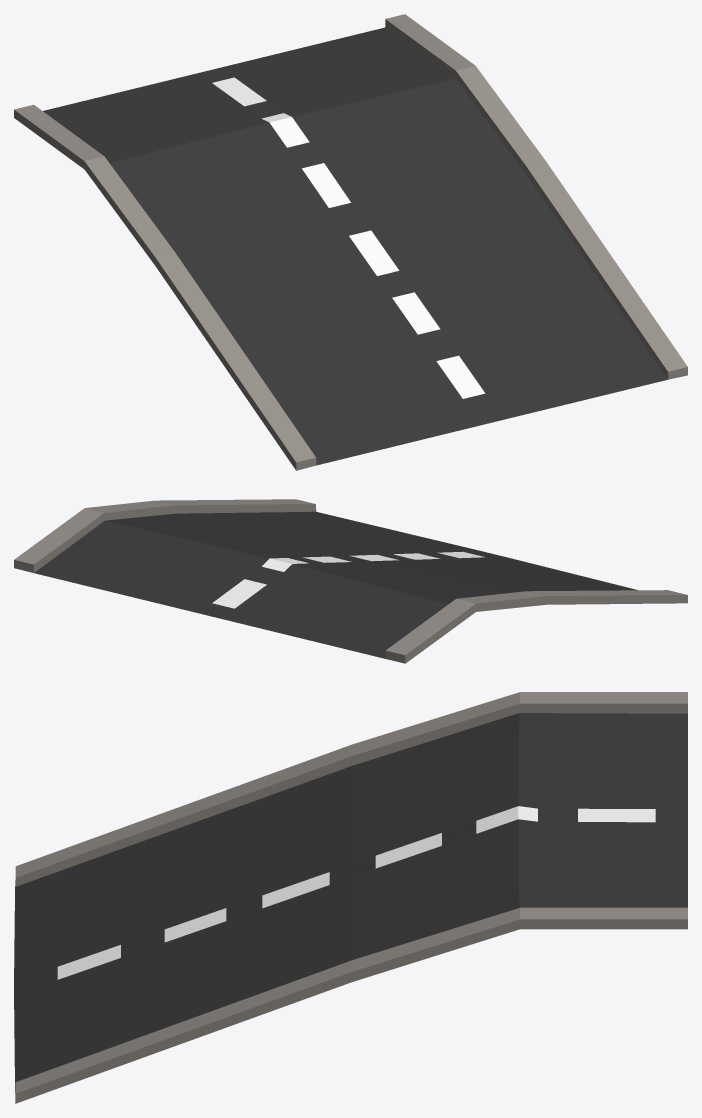
File: Road Tile_6.fbx
3 views of the same model, one above another, from view 1: azimuth 30°, elevation 25°; view 2: azimuth 150°, elevation 25°; view 3: azimuth 270°, elevation 25° (orthographic). The views are drawn at different scales.
Parts seen in each view (by area): view 1: Road Tile_6; view 2: Road Tile_6; view 3: Road Tile_6.
Boxes of the visible parts, <box> form: Road Tile_6: <box>14,14,687,470</box>; Road Tile_6: <box>14,499,687,663</box>; Road Tile_6: <box>14,692,687,1103</box>.
Bounding box in the file's own units: 801 × 302 × 1002.
